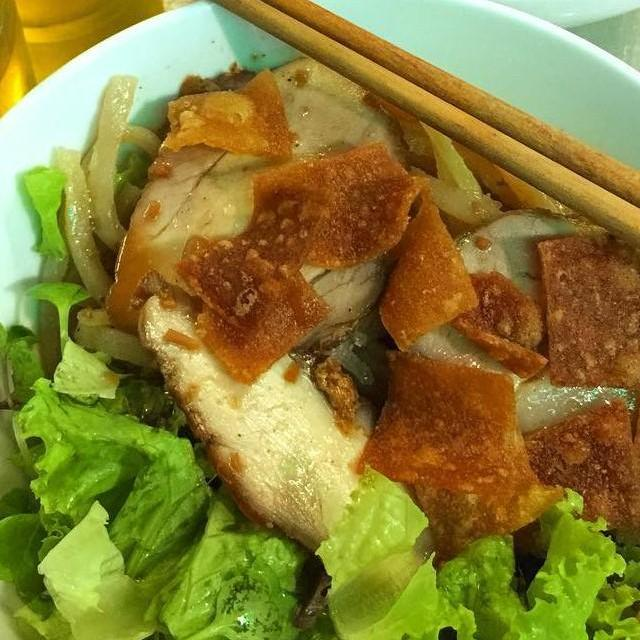banh da: (346, 342, 574, 560), (170, 170, 344, 326), (242, 136, 432, 276), (496, 393, 640, 537), (188, 252, 342, 386), (527, 228, 640, 400), (373, 183, 482, 360), (154, 62, 298, 168), (446, 266, 556, 382), (599, 384, 640, 550)
mi: (22, 66, 166, 388), (384, 100, 576, 248), (609, 480, 640, 640)
mi quang: (0, 22, 640, 640)
thit heo: (92, 45, 420, 352), (121, 264, 438, 570), (391, 202, 640, 453)
